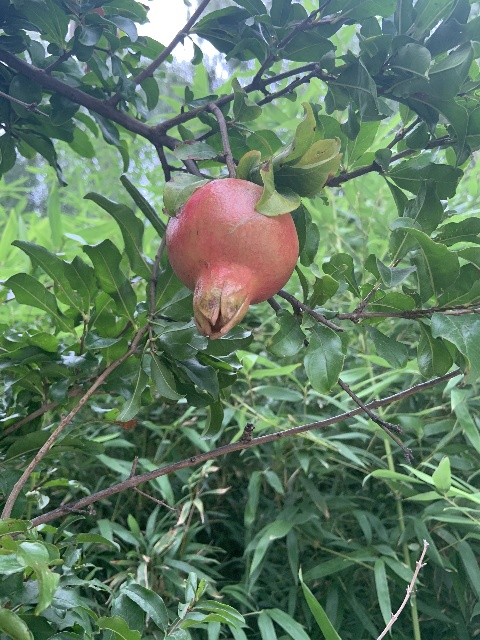ripe: (165, 178, 299, 340)
